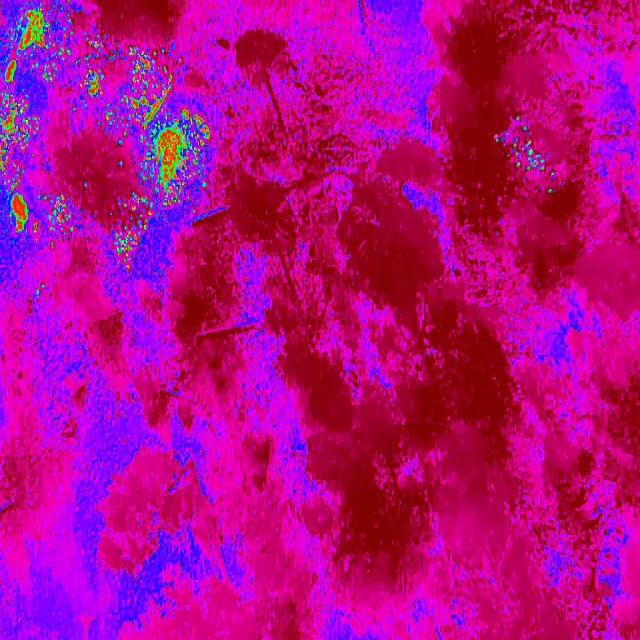fire: (119, 110, 213, 210), (0, 51, 40, 187), (0, 0, 101, 50), (0, 186, 71, 256), (118, 42, 178, 110), (493, 116, 546, 172), (112, 210, 156, 272), (71, 67, 106, 105)
